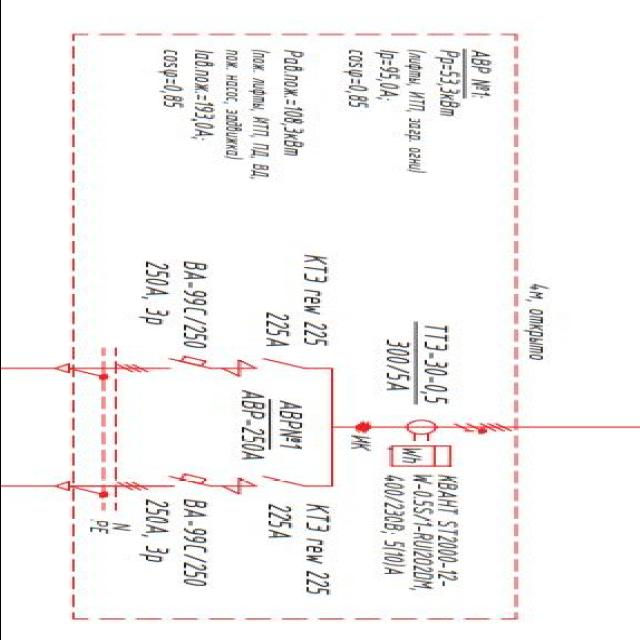-: (372, 473, 466, 595), (257, 500, 341, 598), (258, 252, 336, 350), (135, 496, 215, 588), (139, 258, 213, 352), (381, 316, 457, 406), (465, 48, 494, 102), (344, 432, 378, 452)
AVR: (235, 388, 309, 464)
KM: (236, 354, 312, 370), (236, 474, 312, 489)
QF: (154, 354, 214, 372), (156, 471, 216, 489)
TT: (400, 418, 440, 444)
WH: (387, 443, 456, 469)
